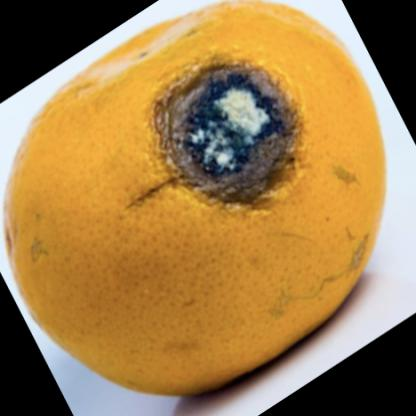rotten_orange: (9, 3, 389, 399)
